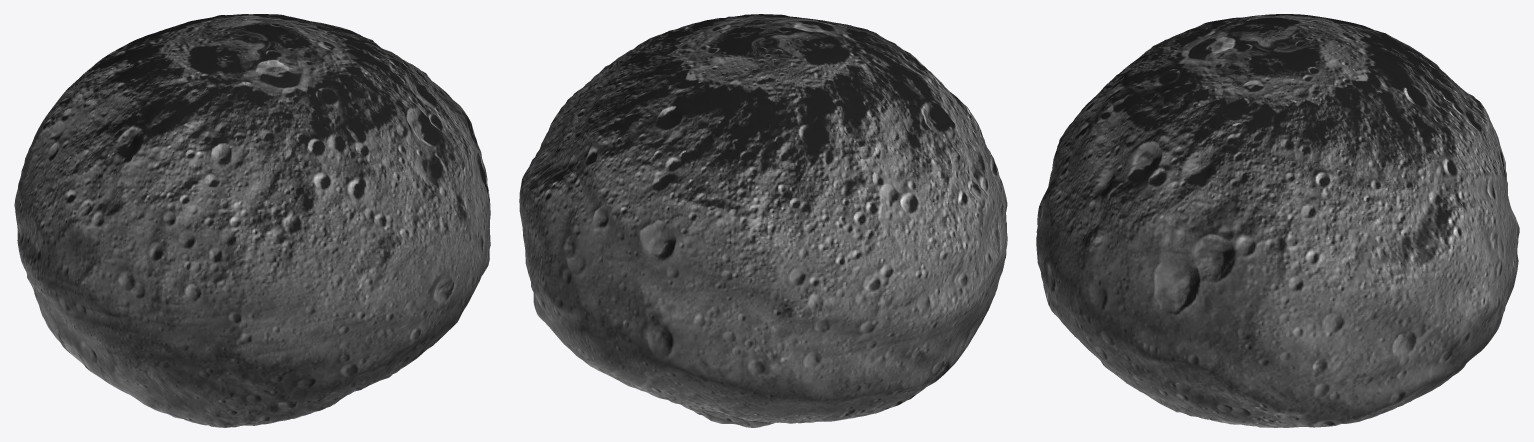
The model's file is vesta-1-100.glb.
3 renders of one model, left to right at view 1: azimuth 30°, elevation 25°; view 2: azimuth 150°, elevation 25°; view 3: azimuth 270°, elevation 25°, orthographic. The views are drawn at different scales.
Parts seen in each view (by area): view 1: Vesta; view 2: Vesta; view 3: Vesta.
Part boxes in pixels (x1,y1,x2,y2): Vesta: (14,14,490,427); Vesta: (519,14,1007,427); Vesta: (1036,14,1519,427).
Bounding box in the file's own units: 5733 × 4628 × 5562.
1 material, 1 textured.
